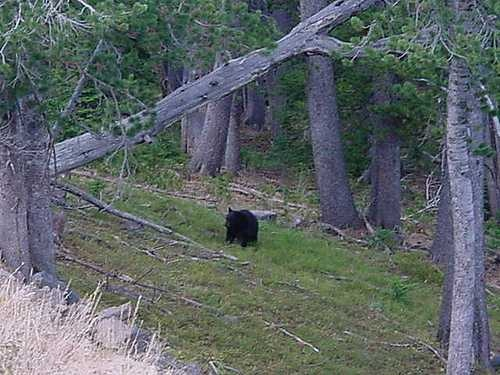bear: (182, 158, 310, 286)
